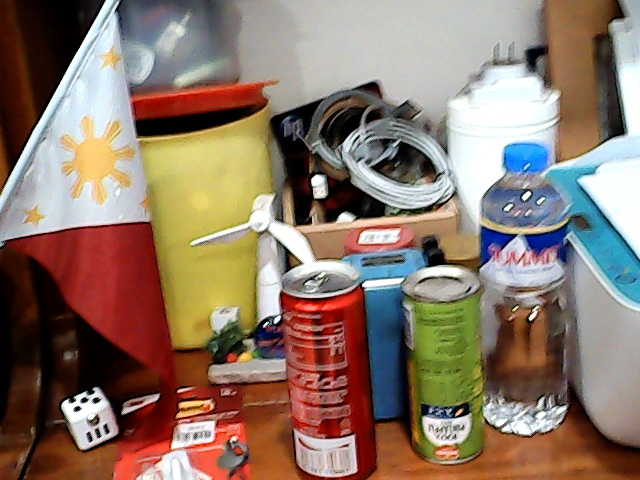Cola: (272, 253, 379, 480)
Pine Juice: (388, 259, 486, 475)
Summit Water: (483, 124, 585, 427)
